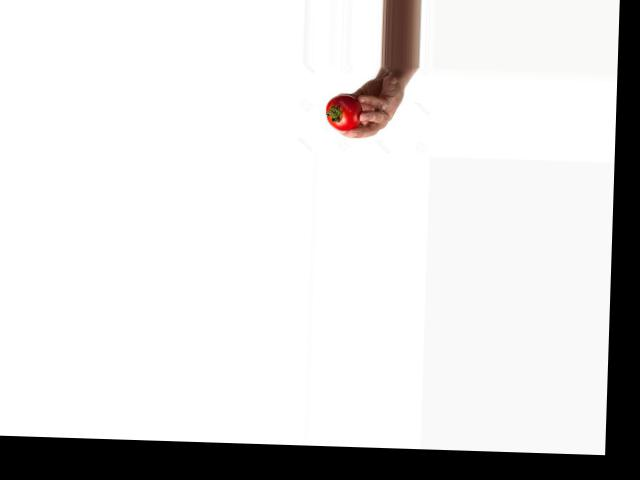tomato: (325, 93, 362, 130)
